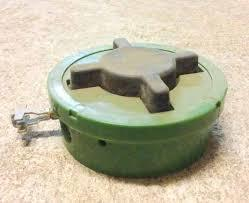PMN 2: (12, 37, 228, 179)
